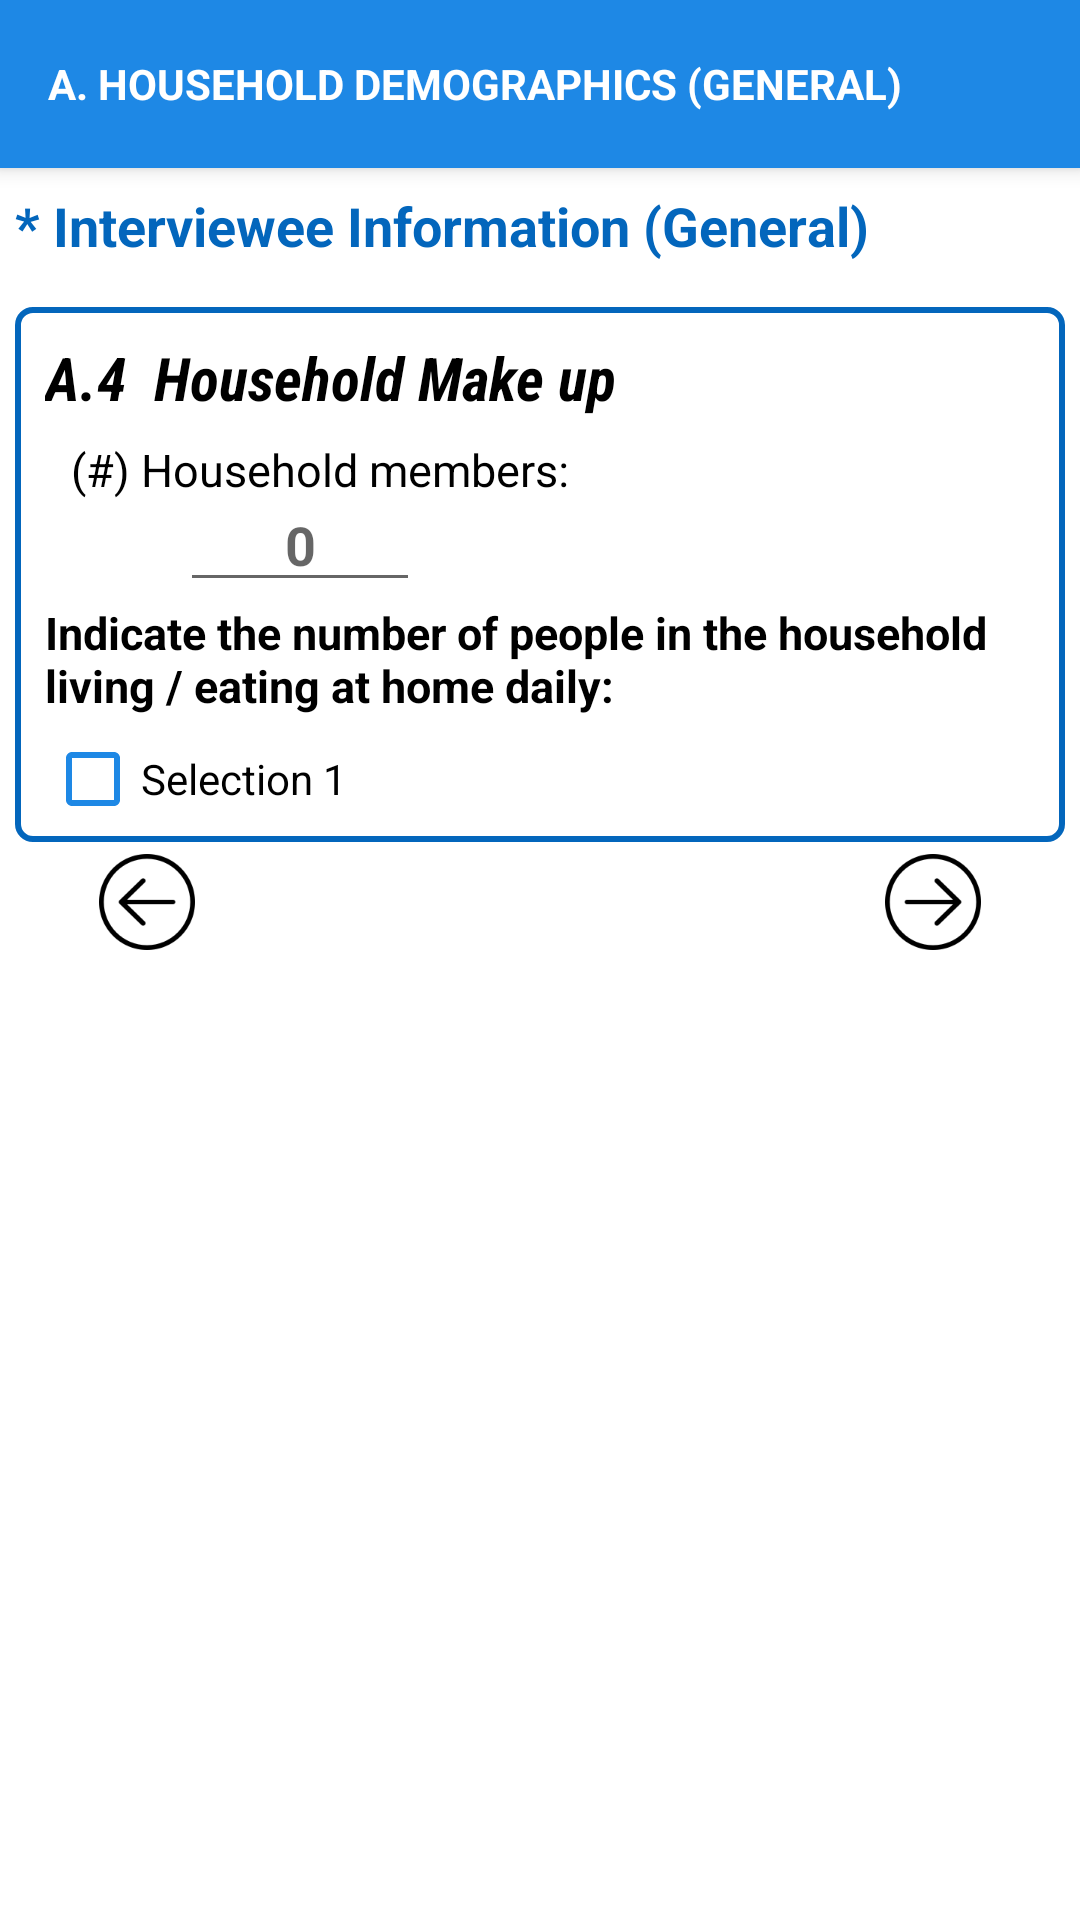

Icon click points for this 1080px x 1920px phone screenshot, format (x=x, y=y):
back: (x=147, y=902)
next: (x=933, y=902)
